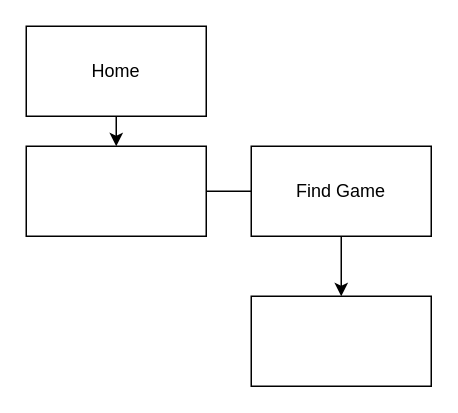
Some shapes in this 458 by 413 pixel diagram are drawn without their labels. Here are the shapes that lost their labels. From the top down, the centre of each, then its label:
(115,190): Main Menu
(340,340): Game Screen
